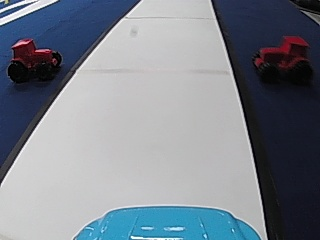tractor: (250, 33, 313, 85), (6, 35, 62, 83)
